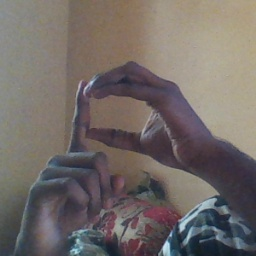P: (49, 58, 192, 213)
